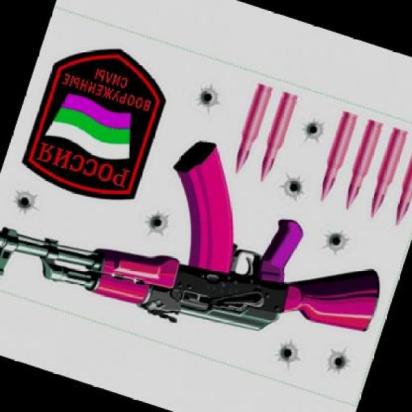Gun: (0, 98, 404, 398)
